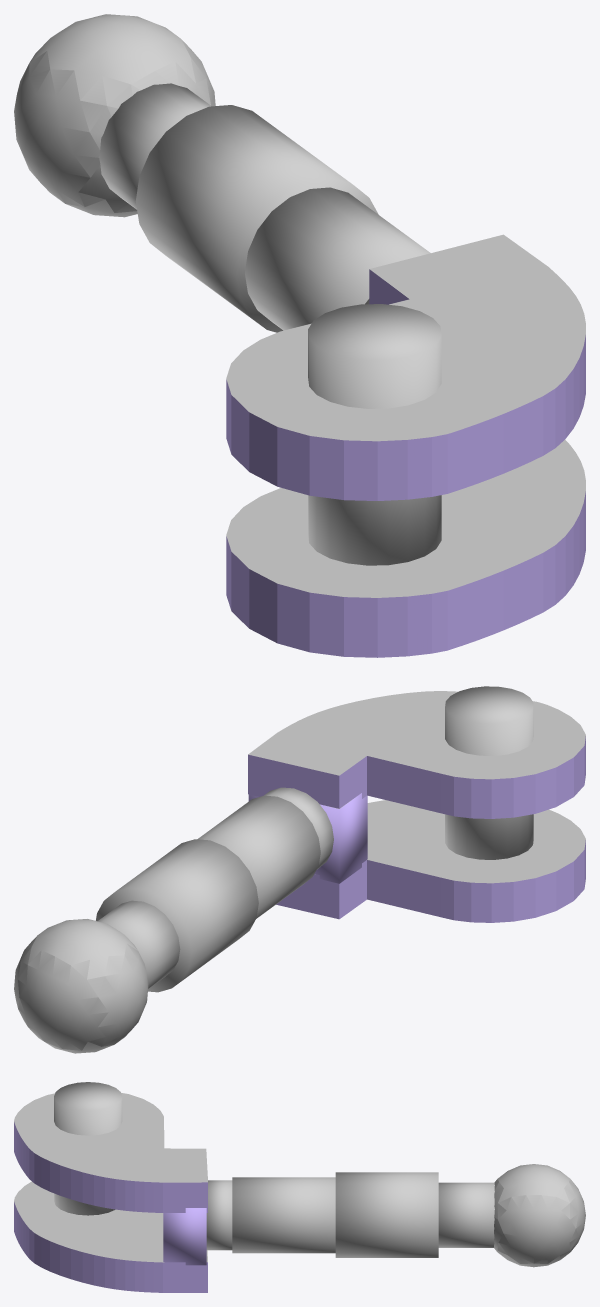
The model's file is back_left_lower.obj.
3 renders of one model, top to bottom at view 1: azimuth 30°, elevation 25°; view 2: azimuth 150°, elevation 25°; view 3: azimuth 270°, elevation 25°, orthographic. The views are drawn at different scales.
Size of the model in its own units: 1.84 by 1.19 by 4.55.
